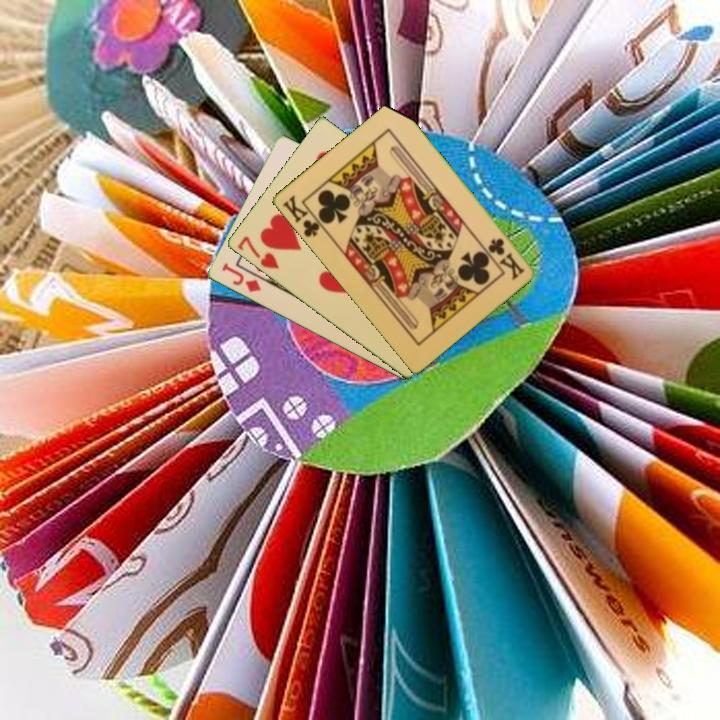7h: (233, 232, 282, 272)
Jd: (218, 259, 264, 295)
Kc: (278, 191, 328, 240), (484, 234, 527, 282)
